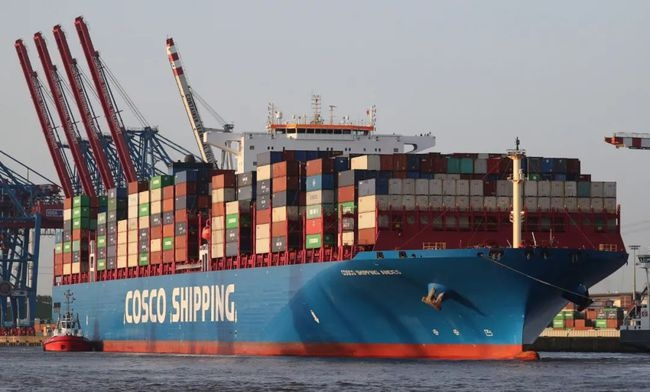Cargoship: (44, 89, 628, 350)
otherboat: (36, 296, 95, 356)
